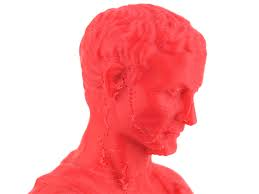fail: (93, 136, 141, 194), (105, 60, 145, 121), (134, 116, 170, 156)
